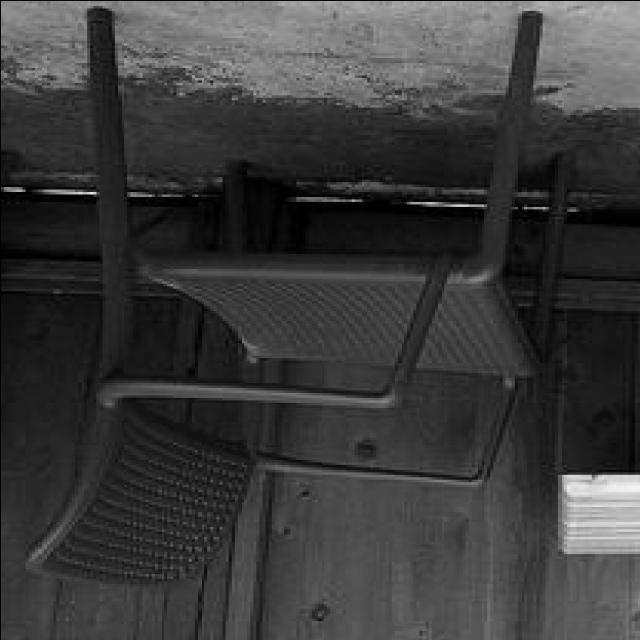chair: (22, 14, 570, 596)
